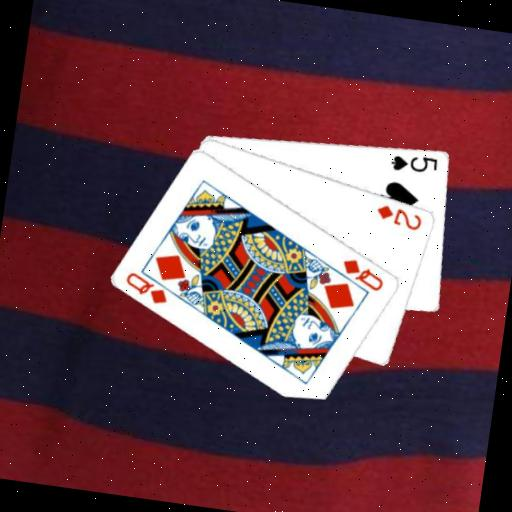2D: (373, 201, 426, 233)
5S: (388, 149, 441, 177)
QD: (120, 268, 173, 307), (336, 255, 388, 294)
